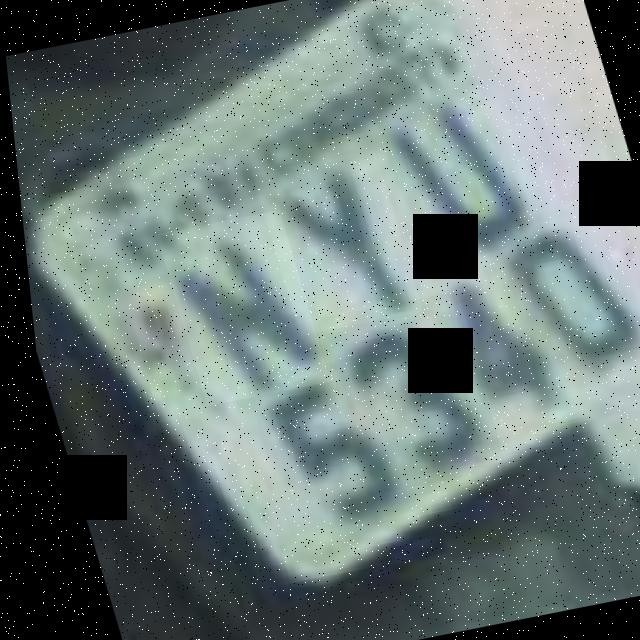0: (472, 197, 640, 389)
3: (307, 292, 499, 496)
4: (406, 242, 577, 436)
5: (234, 354, 410, 536)
N: (149, 210, 324, 406)
U: (352, 71, 542, 268)
Y: (247, 150, 418, 336)
